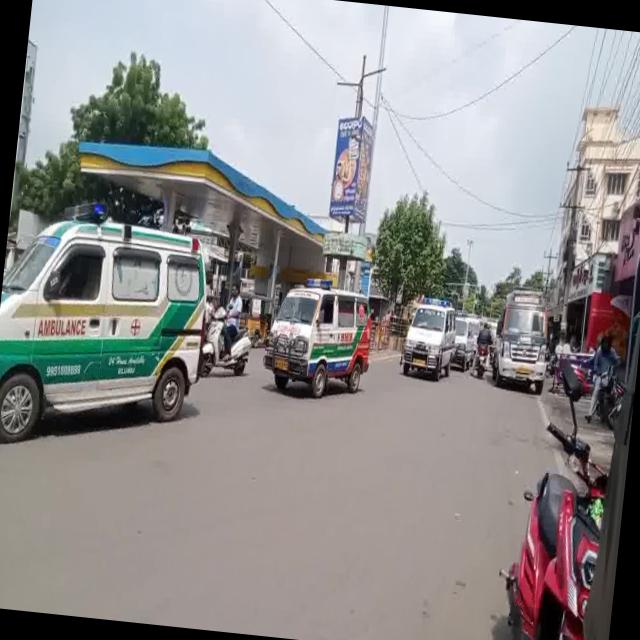ambulance: (0, 194, 213, 454), (260, 273, 388, 417), (391, 289, 462, 388), (494, 285, 551, 400), (450, 283, 478, 383)
